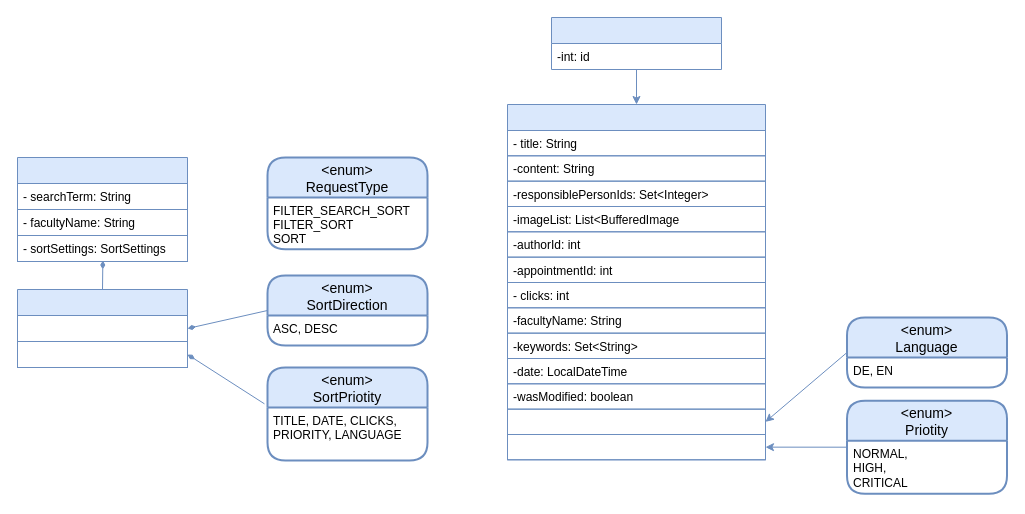
This 1025x514 diagram has some shape labels left out. The shapes that lost their labels are listed below. From the top down, each one's box as (x1, y1, x2, y2) in pixels, then its label:
(550, 16, 722, 70): Entry
(16, 156, 188, 262): PreviewRequest
(506, 104, 766, 460): Article extends Entry
(16, 314, 188, 342): - direction: SortDirection
(16, 288, 188, 368): SortSettings
(16, 340, 188, 368): - priority: SortPriority
(506, 408, 766, 434): -language: Language
(506, 434, 766, 460): -priority: Priority
